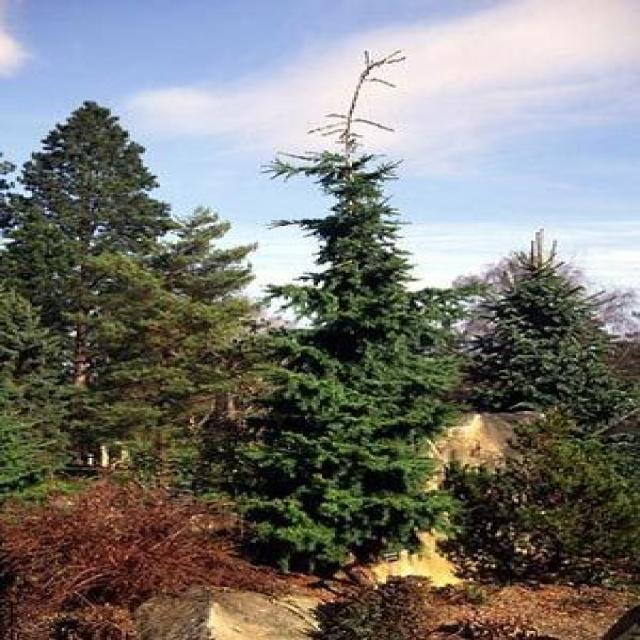Tsuga mertensiana: (222, 29, 498, 578)
